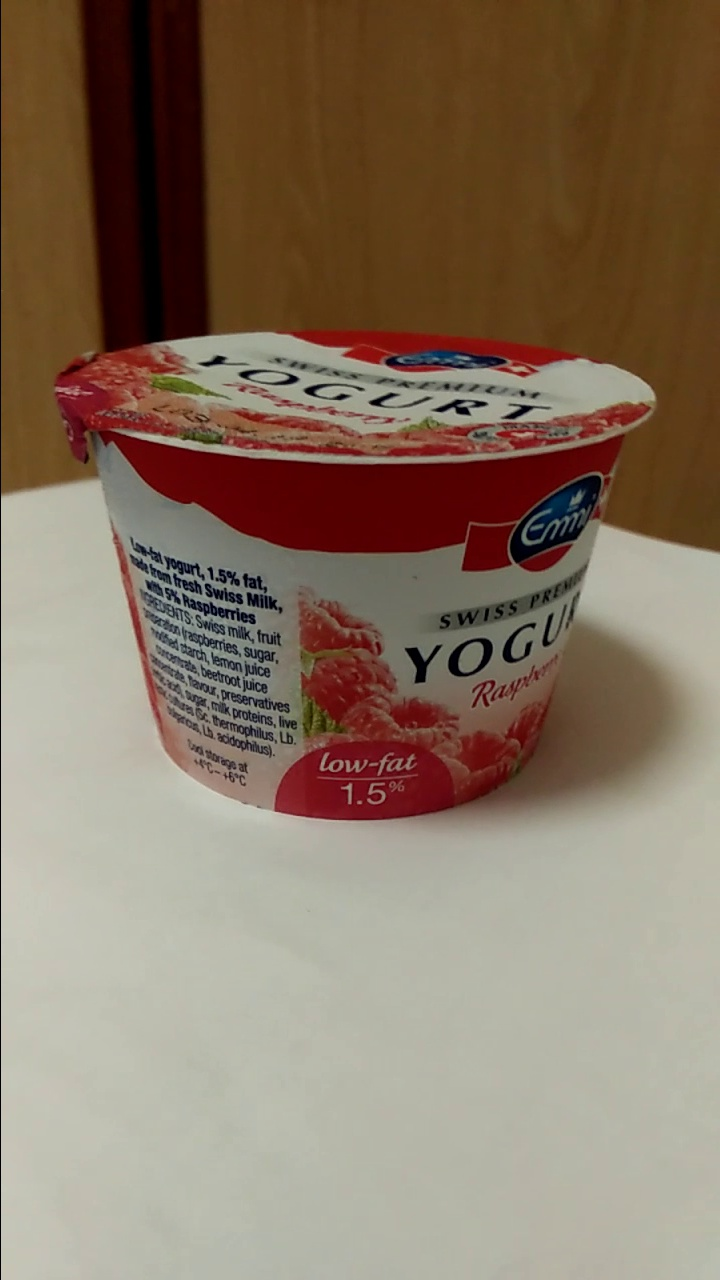yogurt: (72, 337, 650, 831)
